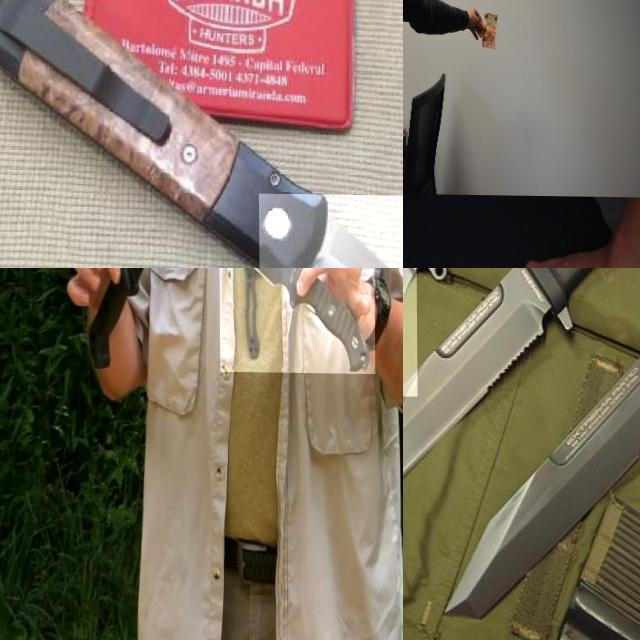-: (437, 337, 640, 625), (403, 268, 546, 506), (218, 268, 374, 373), (403, 268, 482, 396), (86, 268, 167, 373)
